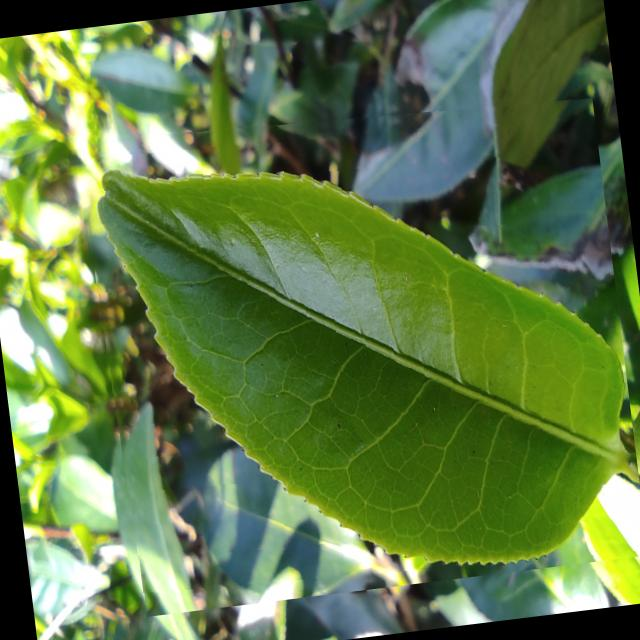Category C(4-7 days): (74, 77, 640, 617)
